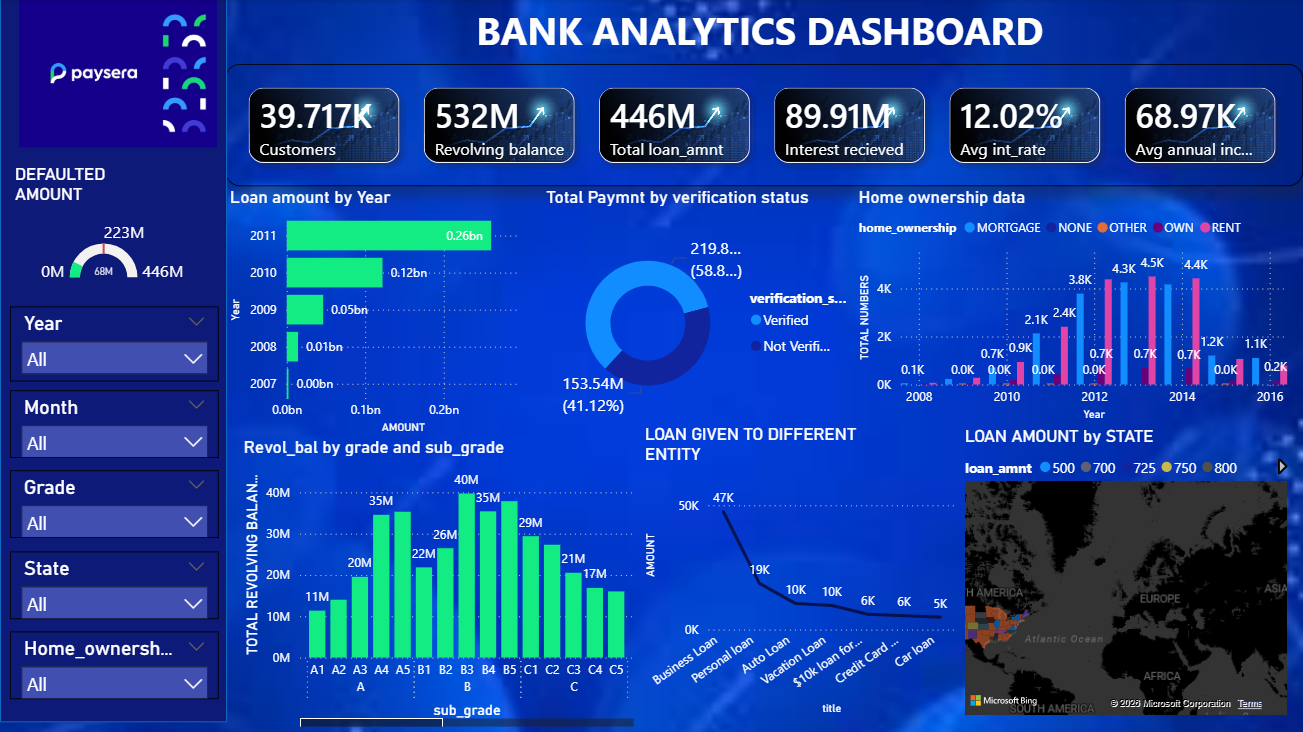

The page's visual inventory and layout, read from the dashboard file:
{"tool":"powerbi","page":{"name":"Page 1","canvas":[1280,720],"ordinal":0},"visuals":[{"type":"cardVisual","fields":{"Data":["Count(Merge1.member_id)","Sum(Merge1.Sheet1.revol_bal)","Sum(Merge1.loan_amnt)","Sum(Merge1.Sheet1.total_rec_int)","Avg(Merge1.int_rate)","Avg(Merge1.annual_inc)"]},"box":[221.4,64.3,1058.6,120],"z":0},{"type":"barChart","title":"Loan amount by Year","fields":{"Y":["Sum(Merge1.loan_amnt)"],"Category":["Merge1.Year"]},"box":[221.4,184.3,310,247.1],"z":1000},{"type":"clusteredColumnChart","title":"Revol_bal by grade and sub_grade","fields":{"Category":["Merge1.grade","Merge1.sub_grade"],"Y":["Sum(Merge1.Sheet1.revol_bal)"]},"box":[234.3,430,392.9,290],"z":2000},{"type":"donutChart","title":"Total Paymnt by verification status","fields":{"Category":["Merge1.verification_status"],"Y":["Sum(Merge1.Sheet1.total_pymnt)"]},"box":[531.3,184.1,306.8,247.9],"z":3000},{"type":"filledMap","title":"LOAN AMOUNT by STATE","fields":{"Category":["Merge1.addr_state"],"Series":["Merge1.loan_amnt"]},"box":[942.3,418.4,326.4,289.6],"z":4000},{"type":"clusteredColumnChart","title":"Home ownership data","fields":{"Y":["CountNonNull(Merge1.Sheet1.last_pymnt_d)"],"Series":["Merge1.home_ownership"],"Category":["Merge1.Sheet1.last_pymnt_d.Variation.Date Hierarchy.Year"]},"box":[838,184.1,430.7,234.4],"z":5000},{"type":"lineChart","title":"LOAN GIVEN TO DIFFERENT ENTITY","fields":{"Category":["Merge1.title"],"Y":["Sum(Merge1.Sheet1.total_pymnt)"]},"box":[628.2,417.2,314.1,290.8],"z":6000},{"type":"shape","box":[0,0,222.9,710],"z":7000},{"type":"slicer","fields":{"Values":["Merge1.Year"]},"box":[9.8,301.8,204.9,73.6],"z":8000},{"type":"slicer","fields":{"Values":["Merge1.Month"]},"box":[9.8,384.1,204.9,66.3],"z":9000},{"type":"slicer","fields":{"Values":["Merge1.grade"]},"box":[9.8,462.6,204.9,66.3],"z":10000},{"type":"slicer","fields":{"Values":["Merge1.addr_state"]},"box":[9.8,542.3,204.9,66.3],"z":11000},{"type":"slicer","fields":{"Values":["Merge1.home_ownership"]},"box":[9.8,620.9,204.9,66.3],"z":12000},{"type":"gauge","title":"DEFAULTED AMOUNT","fields":{"MaxValue":["Sum(Merge1.loan_amnt)"],"Y":["Merge1.default_amount"]},"box":[10,161.4,201.4,121.4],"z":13000},{"type":"textbox","box":[234.3,0,1022.9,64.3],"z":14000},{"type":"image","box":[10,0,211.4,145.7],"z":15000}]}

Visuals, with their boxes in screenshot pixels (x1, y1, x2, y2), scaled from the page's 1280x720 canvas onto the 1303x732 screenshot:
cardVisual - Count(Merge1.member_id) x Sum(Merge1.Sheet1.revol_bal): 225 65 1302 187
"Loan amount by Year" barChart: 225 187 541 439
"Revol_bal by grade and sub_grade" clusteredColumnChart: 239 437 638 731
"Total Paymnt by verification status" donutChart: 541 187 853 439
"LOAN AMOUNT by STATE" filledMap: 959 425 1291 720
"Home ownership data" clusteredColumnChart: 853 187 1291 425
"LOAN GIVEN TO DIFFERENT ENTITY" lineChart: 639 424 959 720
shape: 0 0 227 722
slicer - Merge1.Year: 10 307 219 382
slicer - Merge1.Month: 10 391 219 458
slicer - Merge1.grade: 10 470 219 538
slicer - Merge1.addr_state: 10 551 219 619
slicer - Merge1.home_ownership: 10 631 219 699
"DEFAULTED AMOUNT" gauge: 10 164 215 288
textbox: 239 0 1280 65
image: 10 0 225 148
